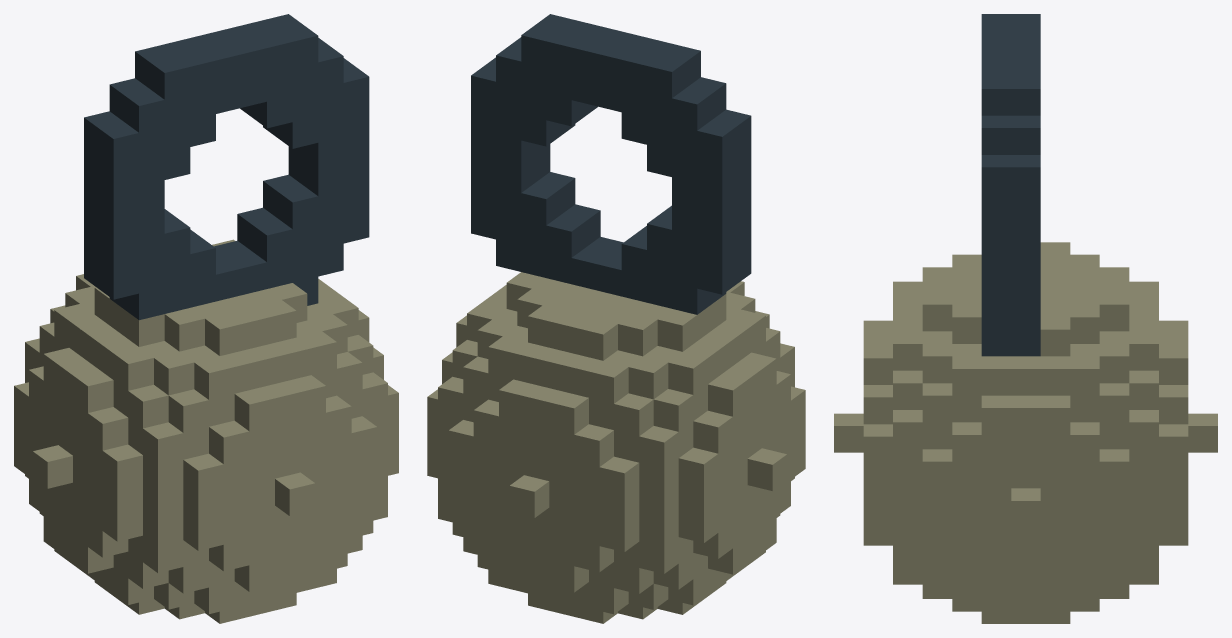
Rendered from fitness-05.glb.
3 renders of one model, left to right at view 1: azimuth 30°, elevation 25°; view 2: azimuth 150°, elevation 25°; view 3: azimuth 270°, elevation 25°, orthographic.
Visible parts, largest first — view 1: Kettlebell; view 2: Kettlebell; view 3: Kettlebell.
Boxes of the visible parts, x1,y1,x2,y2 form: Kettlebell: (14,14,398,623); Kettlebell: (427,14,805,623); Kettlebell: (834,14,1217,623).
Size of the model in its own units: 1.04 by 1.68 by 1.04.
